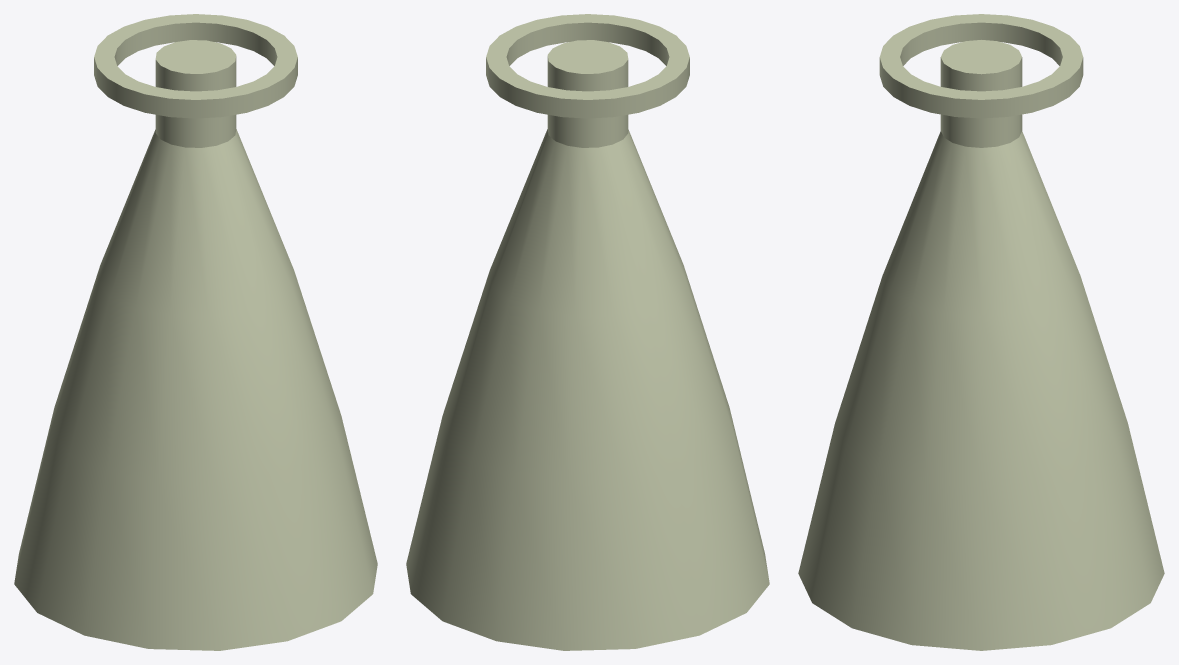
Rendered from ruby_engine_s0_2.obj.
3 views of the same model, side by side, from view 1: azimuth 30°, elevation 25°; view 2: azimuth 150°, elevation 25°; view 3: azimuth 270°, elevation 25° (orthographic).
Parts seen in each view (by area): view 1: ruby_engine_s0_2; view 2: ruby_engine_s0_2; view 3: ruby_engine_s0_2.
Boxes of the visible parts, x1,y1,x2,y2 form: ruby_engine_s0_2: (14, 14, 377, 650); ruby_engine_s0_2: (406, 14, 769, 650); ruby_engine_s0_2: (798, 14, 1164, 650).
Size of the model in its own units: 1.12 by 1.75 by 1.12.
